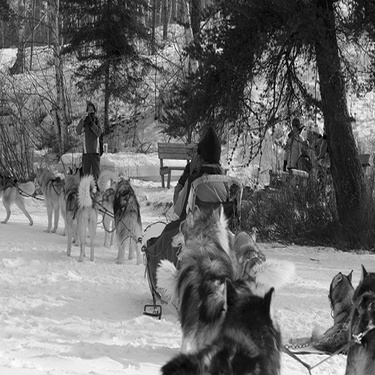dog: (153, 277, 283, 372), (178, 201, 238, 356), (287, 265, 356, 356), (222, 223, 295, 302), (149, 210, 188, 312), (57, 163, 97, 261), (32, 166, 76, 235), (113, 176, 145, 266), (350, 259, 372, 373), (1, 164, 37, 231), (88, 167, 118, 247), (106, 165, 125, 243)
